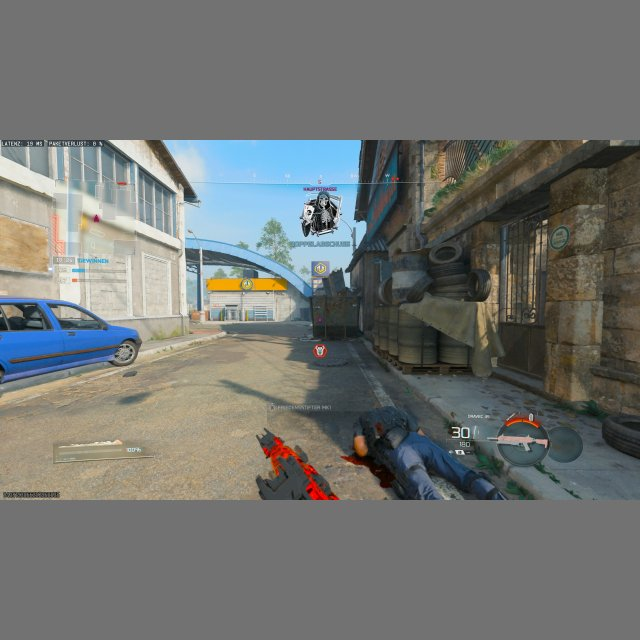player: (254, 427, 339, 500)
